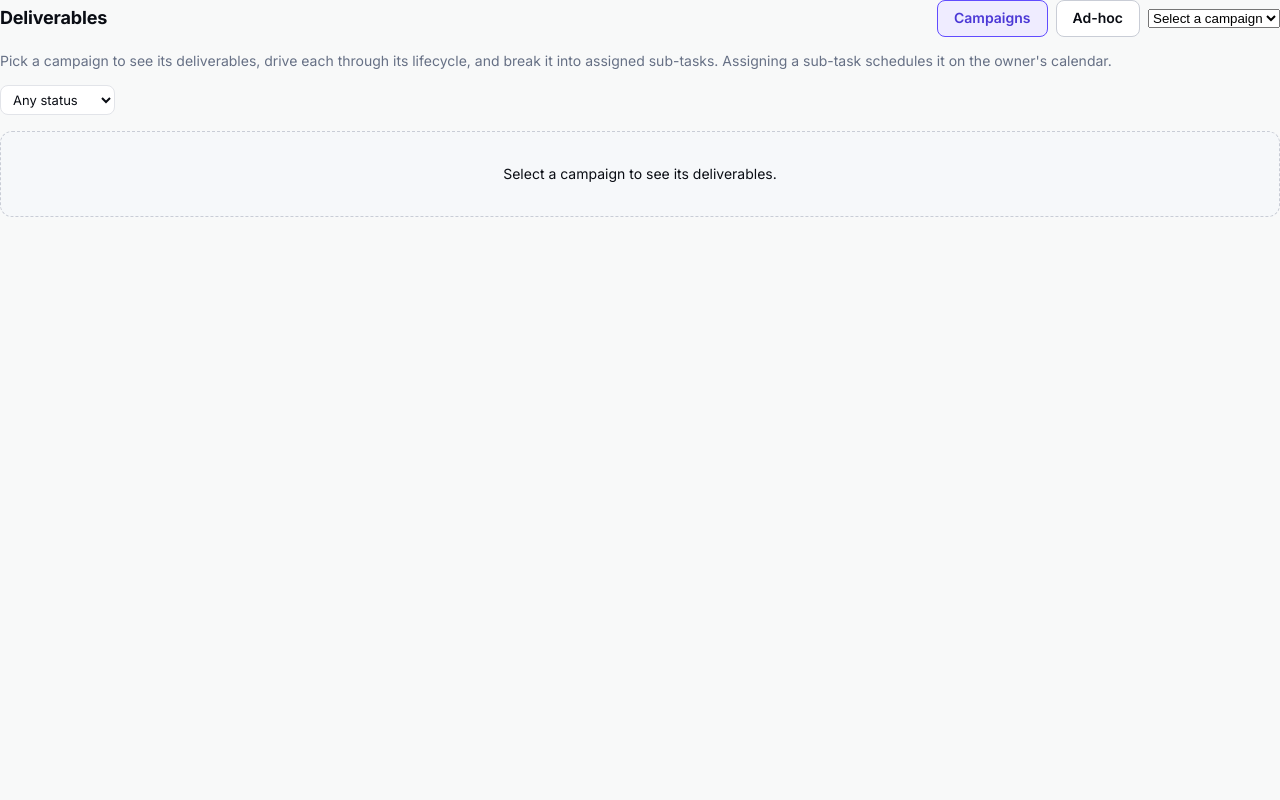
Scenario: DeliverablesPage (ADR-0024, I2 breakdown surface) › closes the modal
Step 1. Select "Spring Launch" in the dropdown with test id "deliverables-campaign" → (1214, 18), box [1148,9,1279,28]
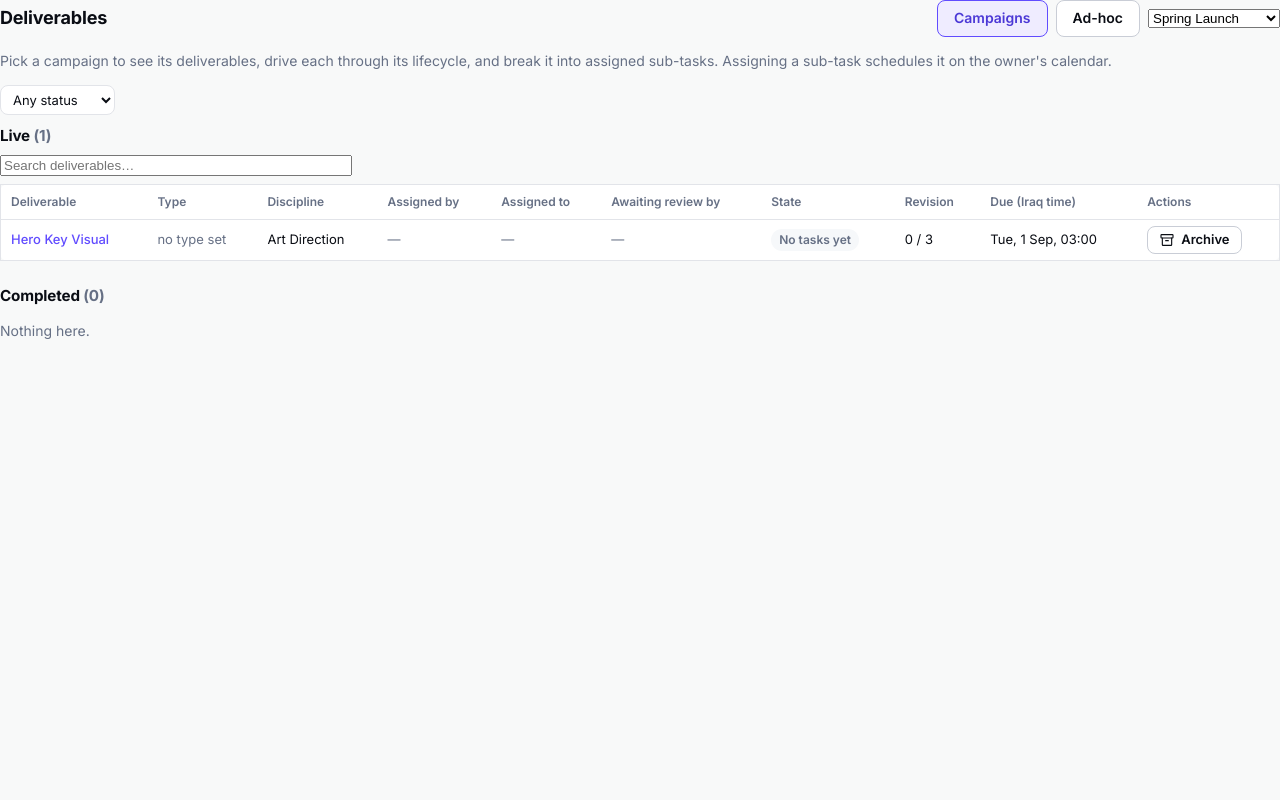
Step 2. Click the button with test id "deliverable-open-d1" → (60, 240), box [11,232,109,248]
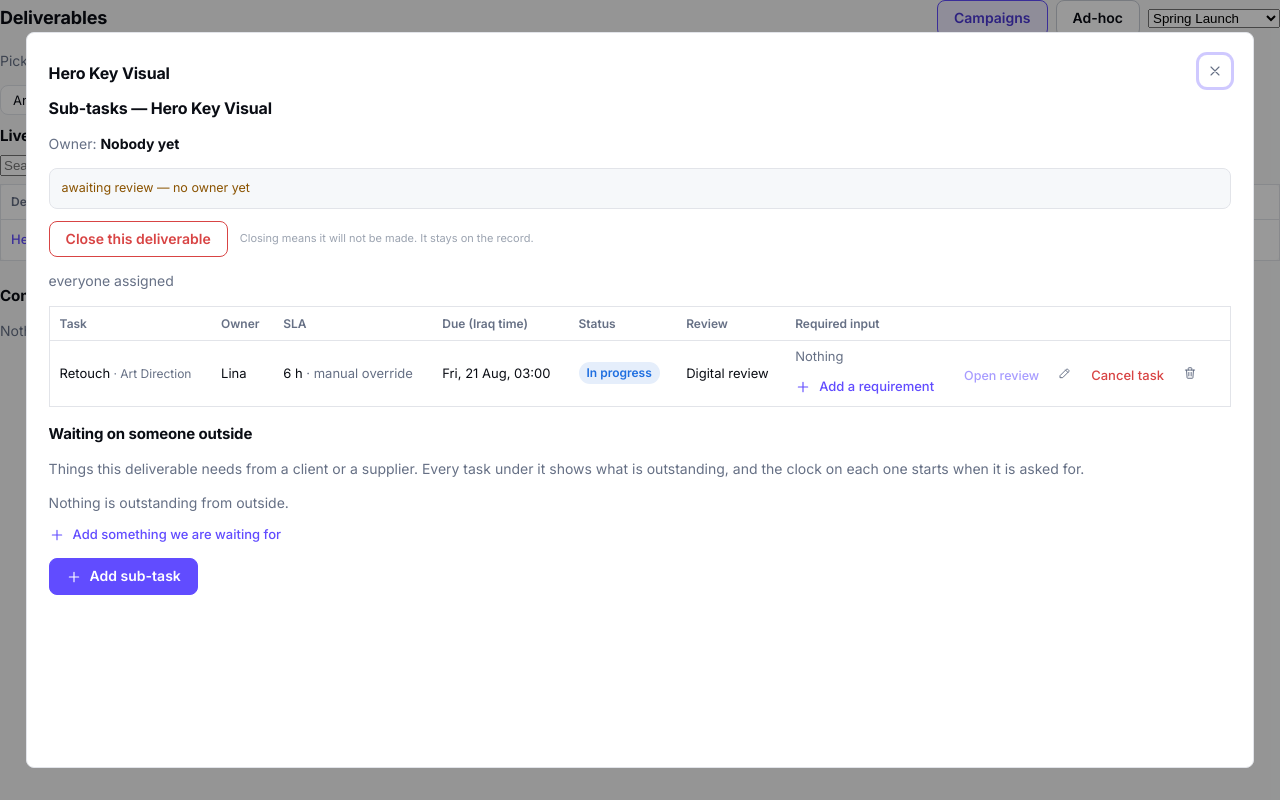
Step 3. Click the button with test id "deliverable-detail-close" → (1215, 71), box [1199,55,1231,87]
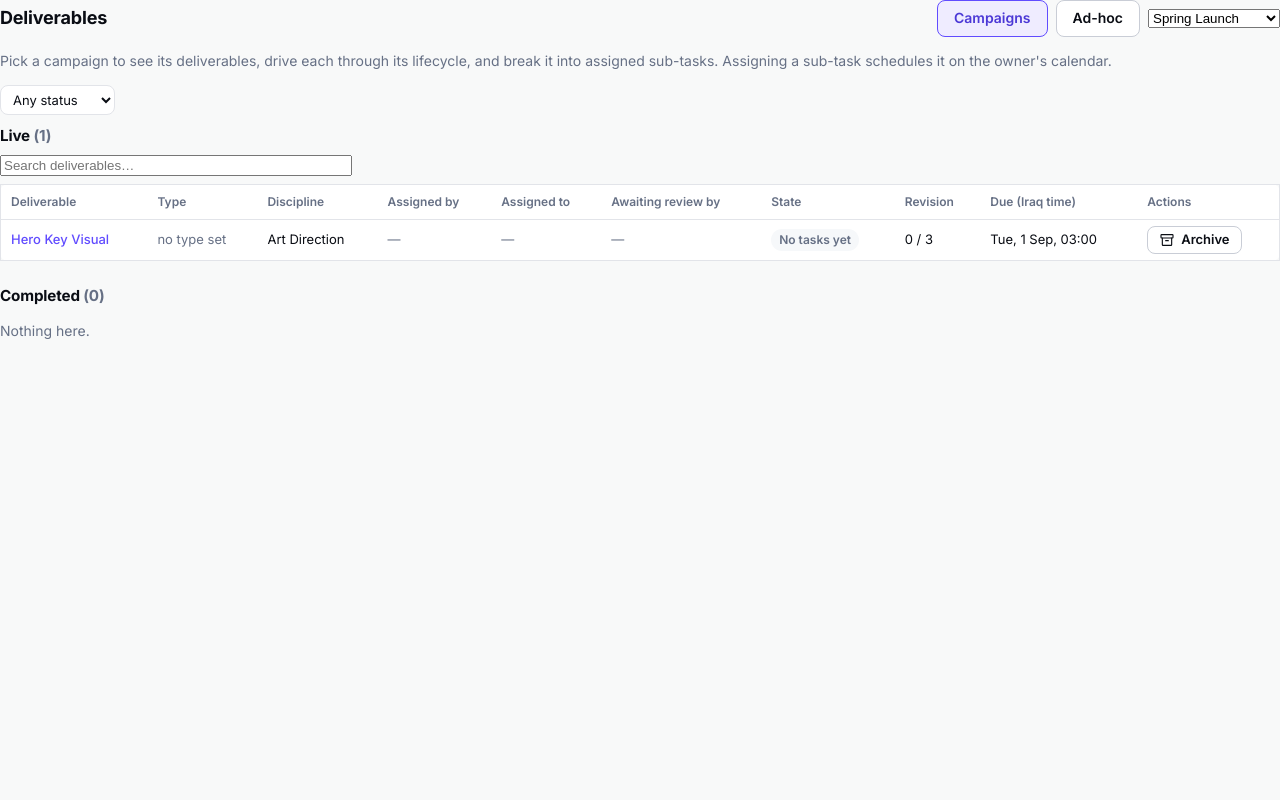
Result: the dialog with test id "deliverable-detail-dialog" is gone
